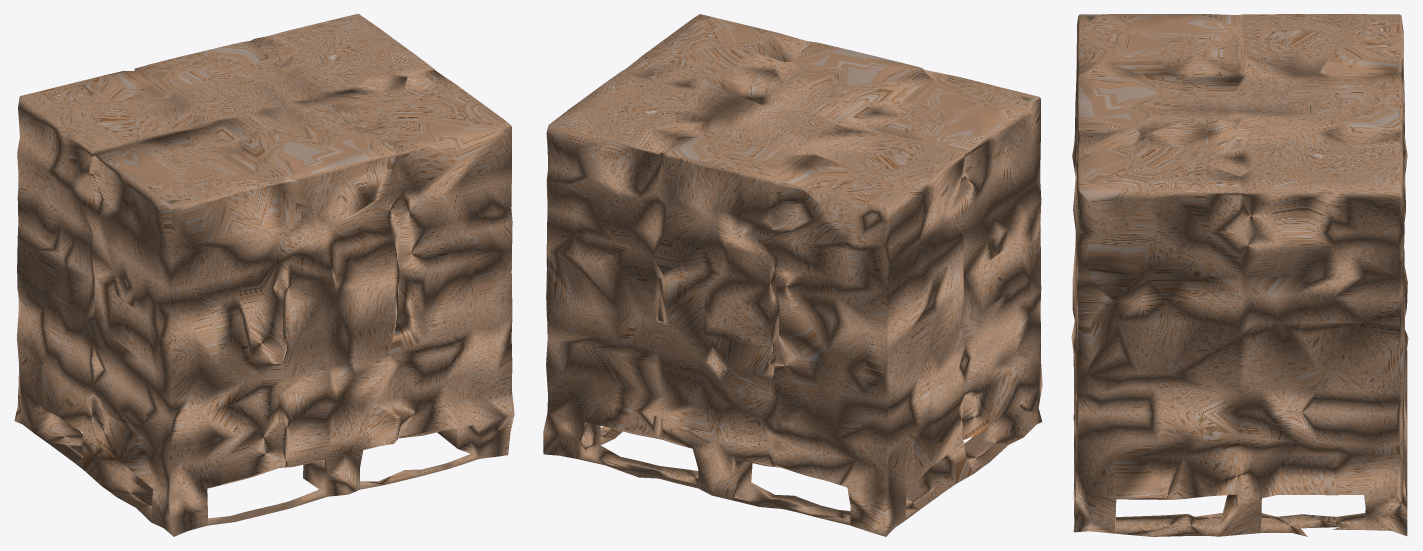
Rendered from pallet-boxes-lite.glb.
3 views of the same model, side by side, from view 1: azimuth 30°, elevation 25°; view 2: azimuth 150°, elevation 25°; view 3: azimuth 270°, elevation 25° (orthographic). The views are drawn at different scales.
Size of the model in its own units: 1.9 by 1.73 by 1.52.
1 material, 1 textured.
